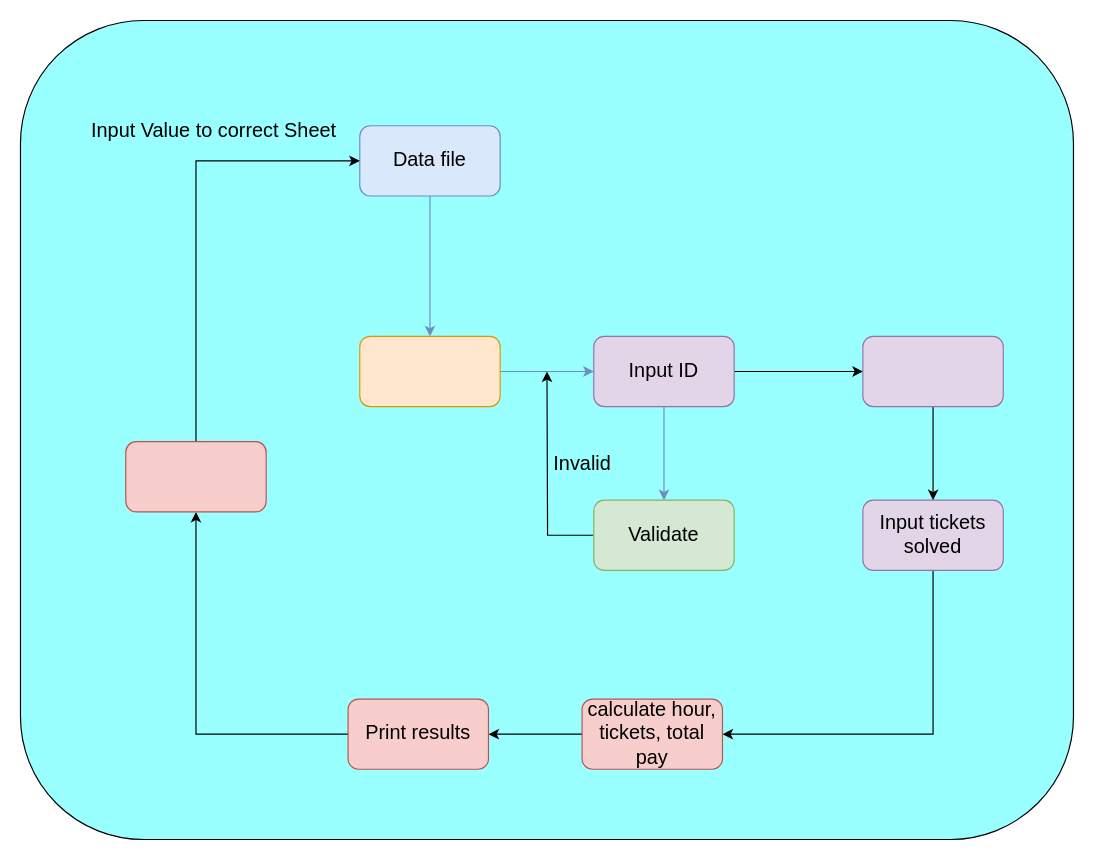
The diagram is 1094 pixels wide and 860 high, and some of its shapes have lost their labels. The box of each missing label's shape, as (x1, y1, x2, y2) in pixels:
Add results and employee ID to list: (125, 441, 266, 512)
Input hours worked: (862, 335, 1003, 407)
Program: (359, 335, 500, 407)
